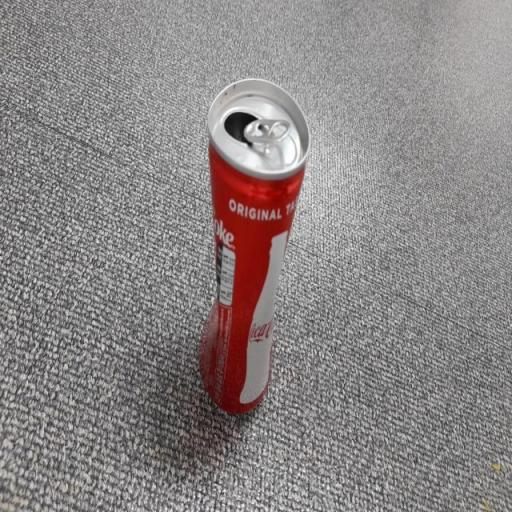metal: (194, 72, 316, 450)
